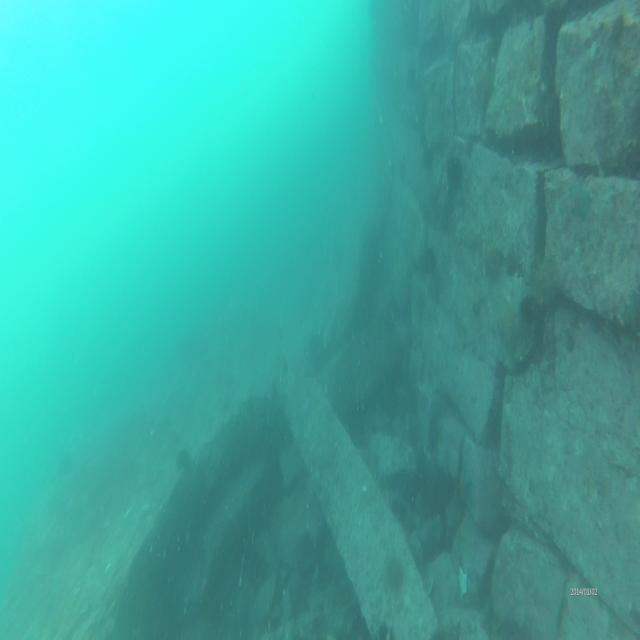echinus: (521, 297, 542, 331), (382, 554, 401, 583)
